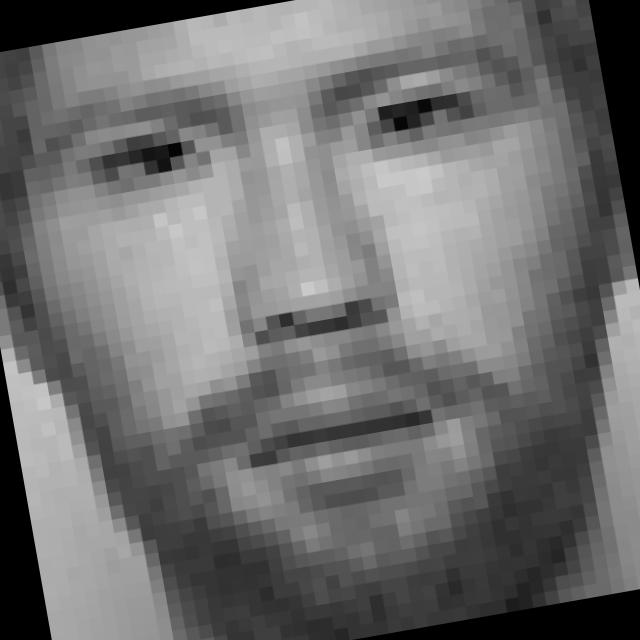neutral: (32, 8, 597, 554)
